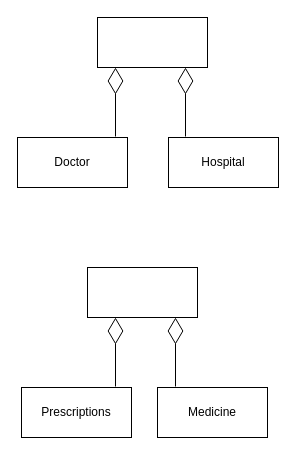
Some shapes in this 296 by 455 pixel diagram are drawn without their labels. The shapes that lost their labels are listed below. From the top down, each one's centre as x and y in pixels, then its label:
the point at 152,42: Consultation
the point at 142,292: Prescribed_In
